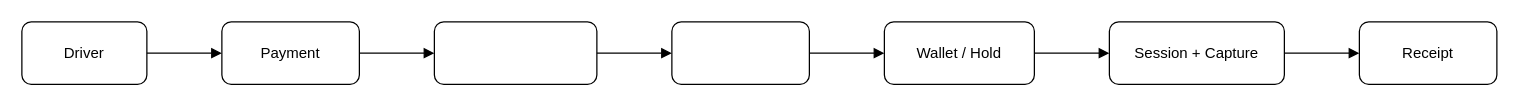
The diagram is 1519 pixels wide and 106 high, and some of its shapes have lost their labels. The centre of each missing label's shape, as x and y in pixels:
Gateway Mock / Asaas: [515,52]
Webhook: [740,52]
